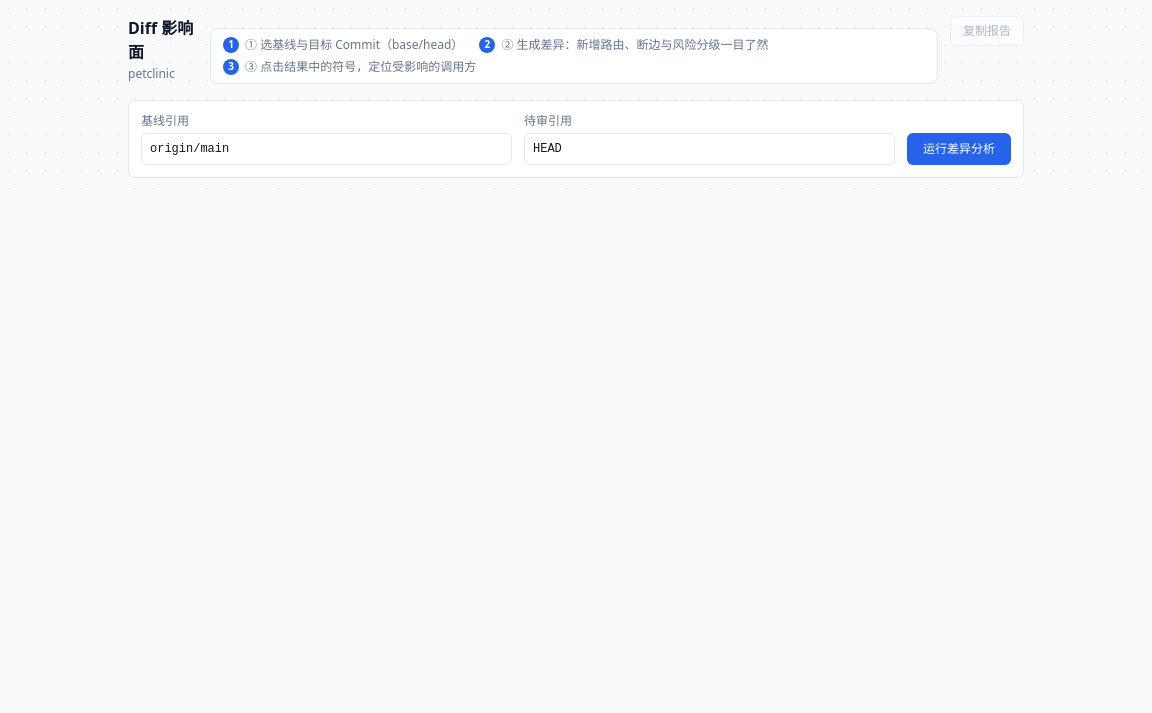
Test: ArchitectureDeltaView (v0.6.0) › v0.6 closeout: renders the delta mermaid diagram when the field is present
Click the button with test id "delta-run".
click(959, 149)  # box [907,133,1011,165]
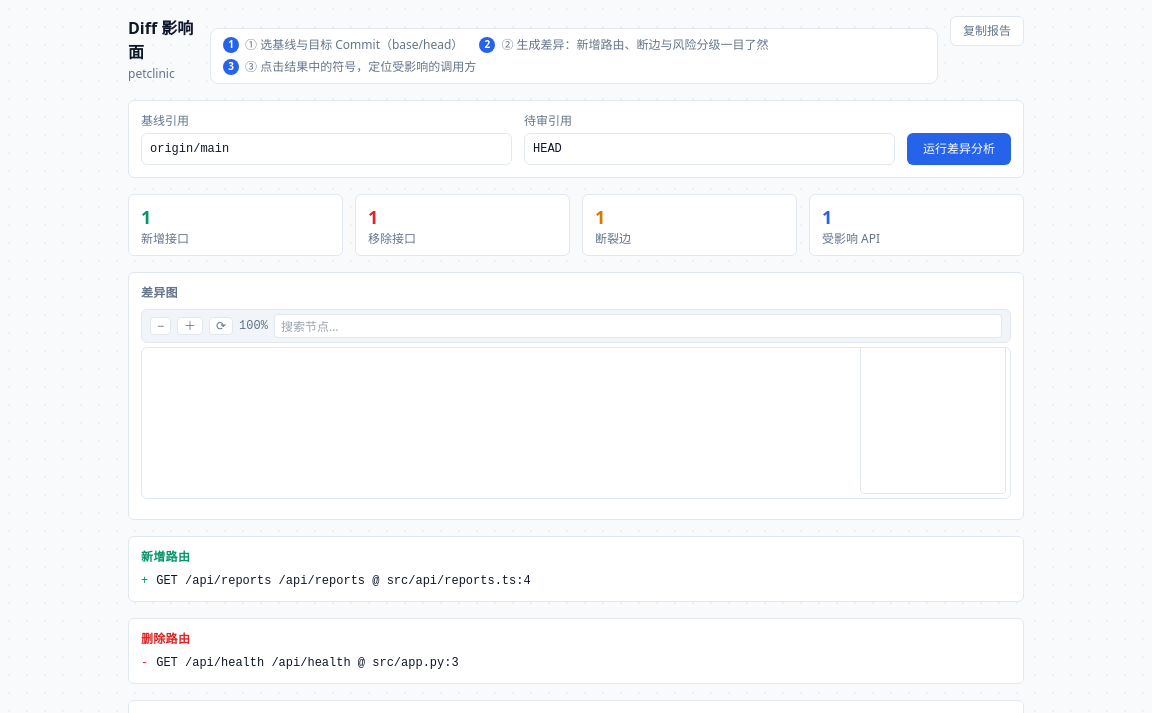
Expected: the element with test id "mermaid-svg" is shown, [142,348,442,498]
Expected: the element with test id "delta-diagram" is shown, [128,272,1024,520]
